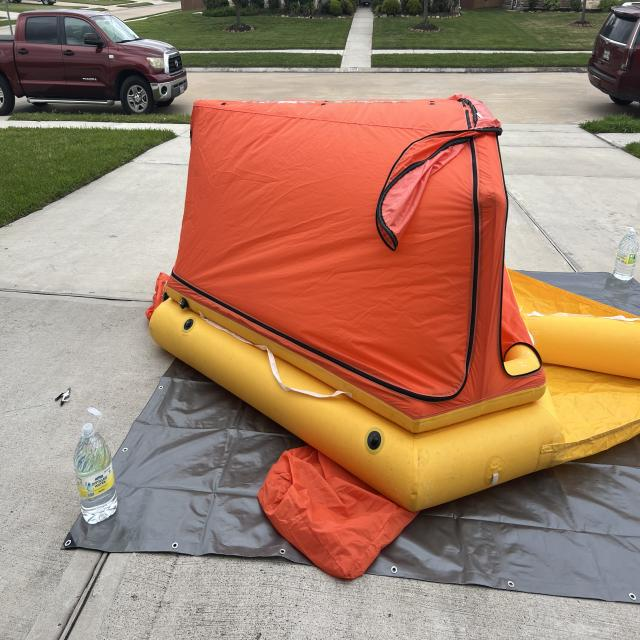Multi-person_life_raft: (145, 96, 640, 580)
